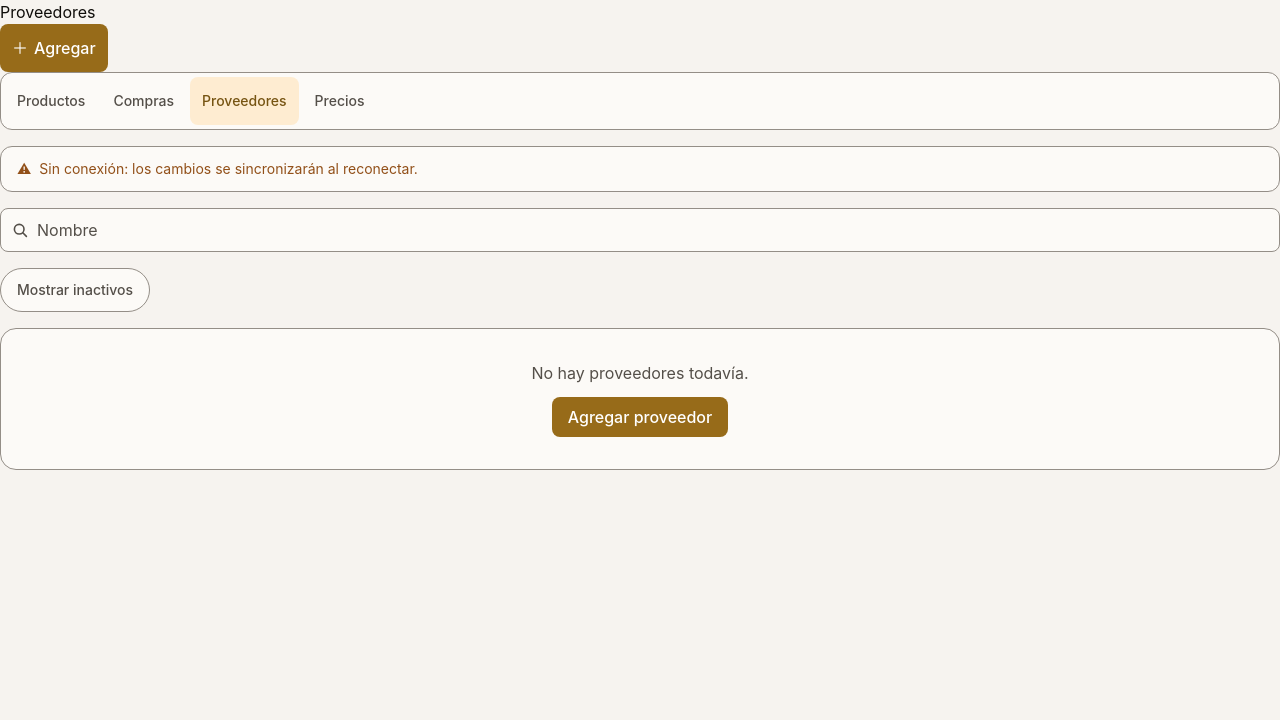
Scenario: Proveedores › alta › sin conexión: la fase 1 igual resuelve (id ya asignado), cierra el modal y avisa sin esperar el ack
This screenshot has width=1280, height=720.
Click the button with aria-label "Agregar proveedor". click: (54, 48)
box: [0, 24, 108, 72]
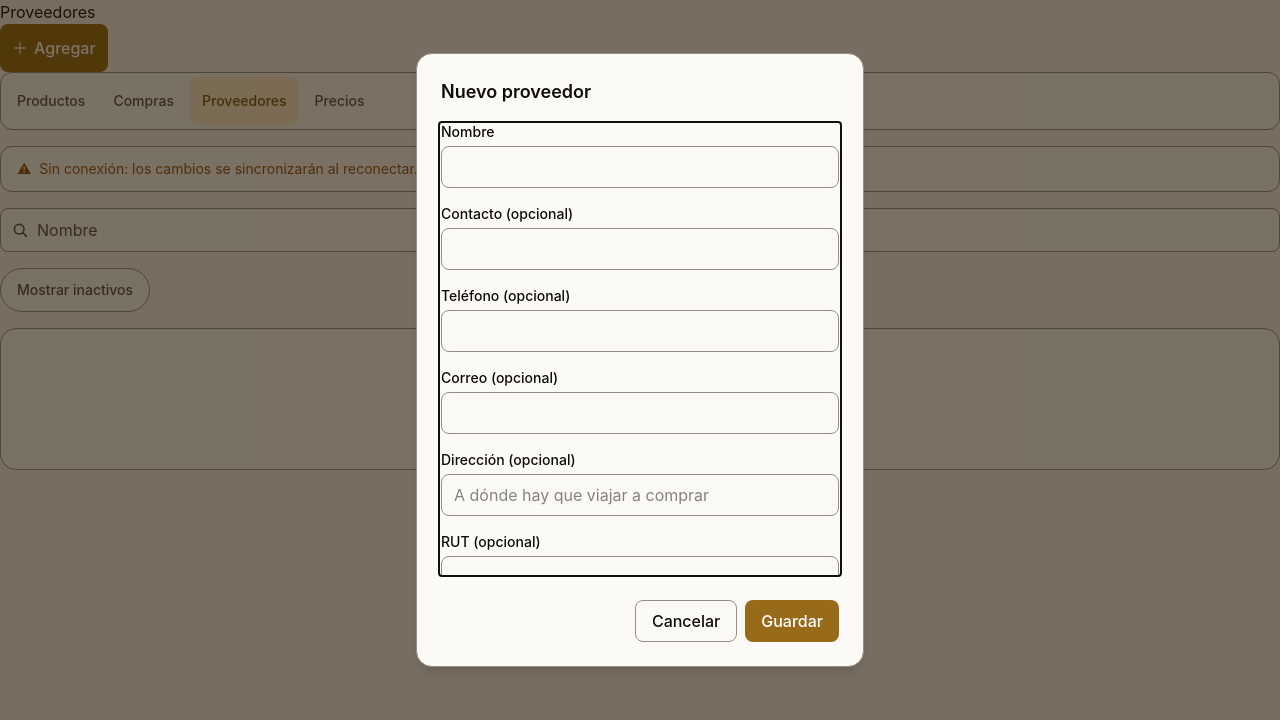
Type "Quesos del Norte" into the field labelled "Nombre". click: (640, 167)
box: [441, 146, 839, 188]
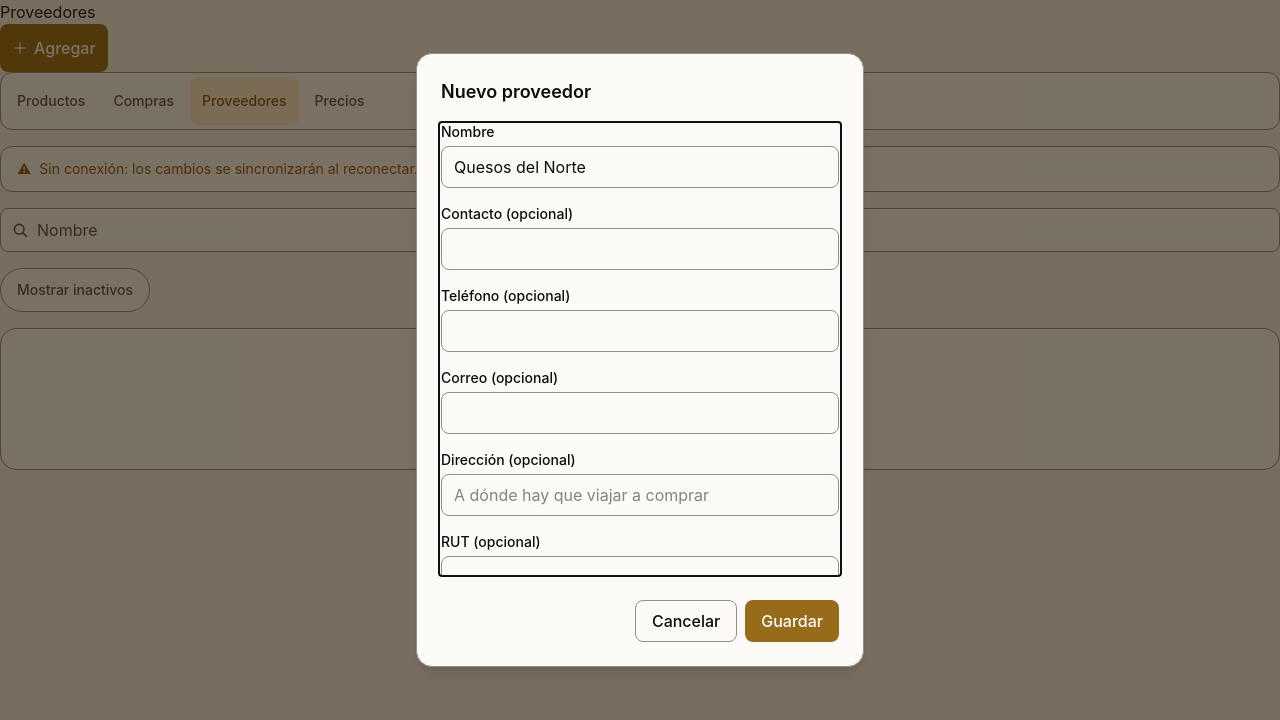
Click the button "Guardar". click: (792, 621)
box: [745, 600, 839, 642]
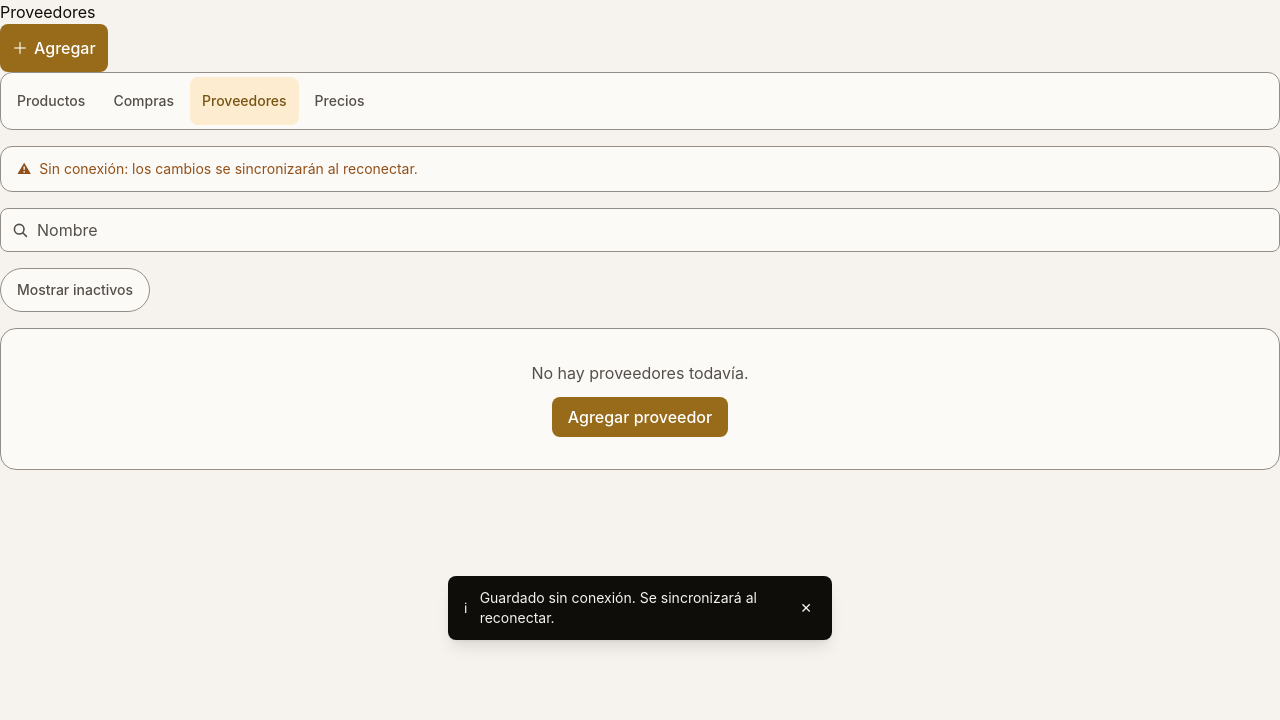
Expected: the text "Guardado sin conexión. Se sincronizará al reconectar." is shown, [480, 588, 784, 628]
